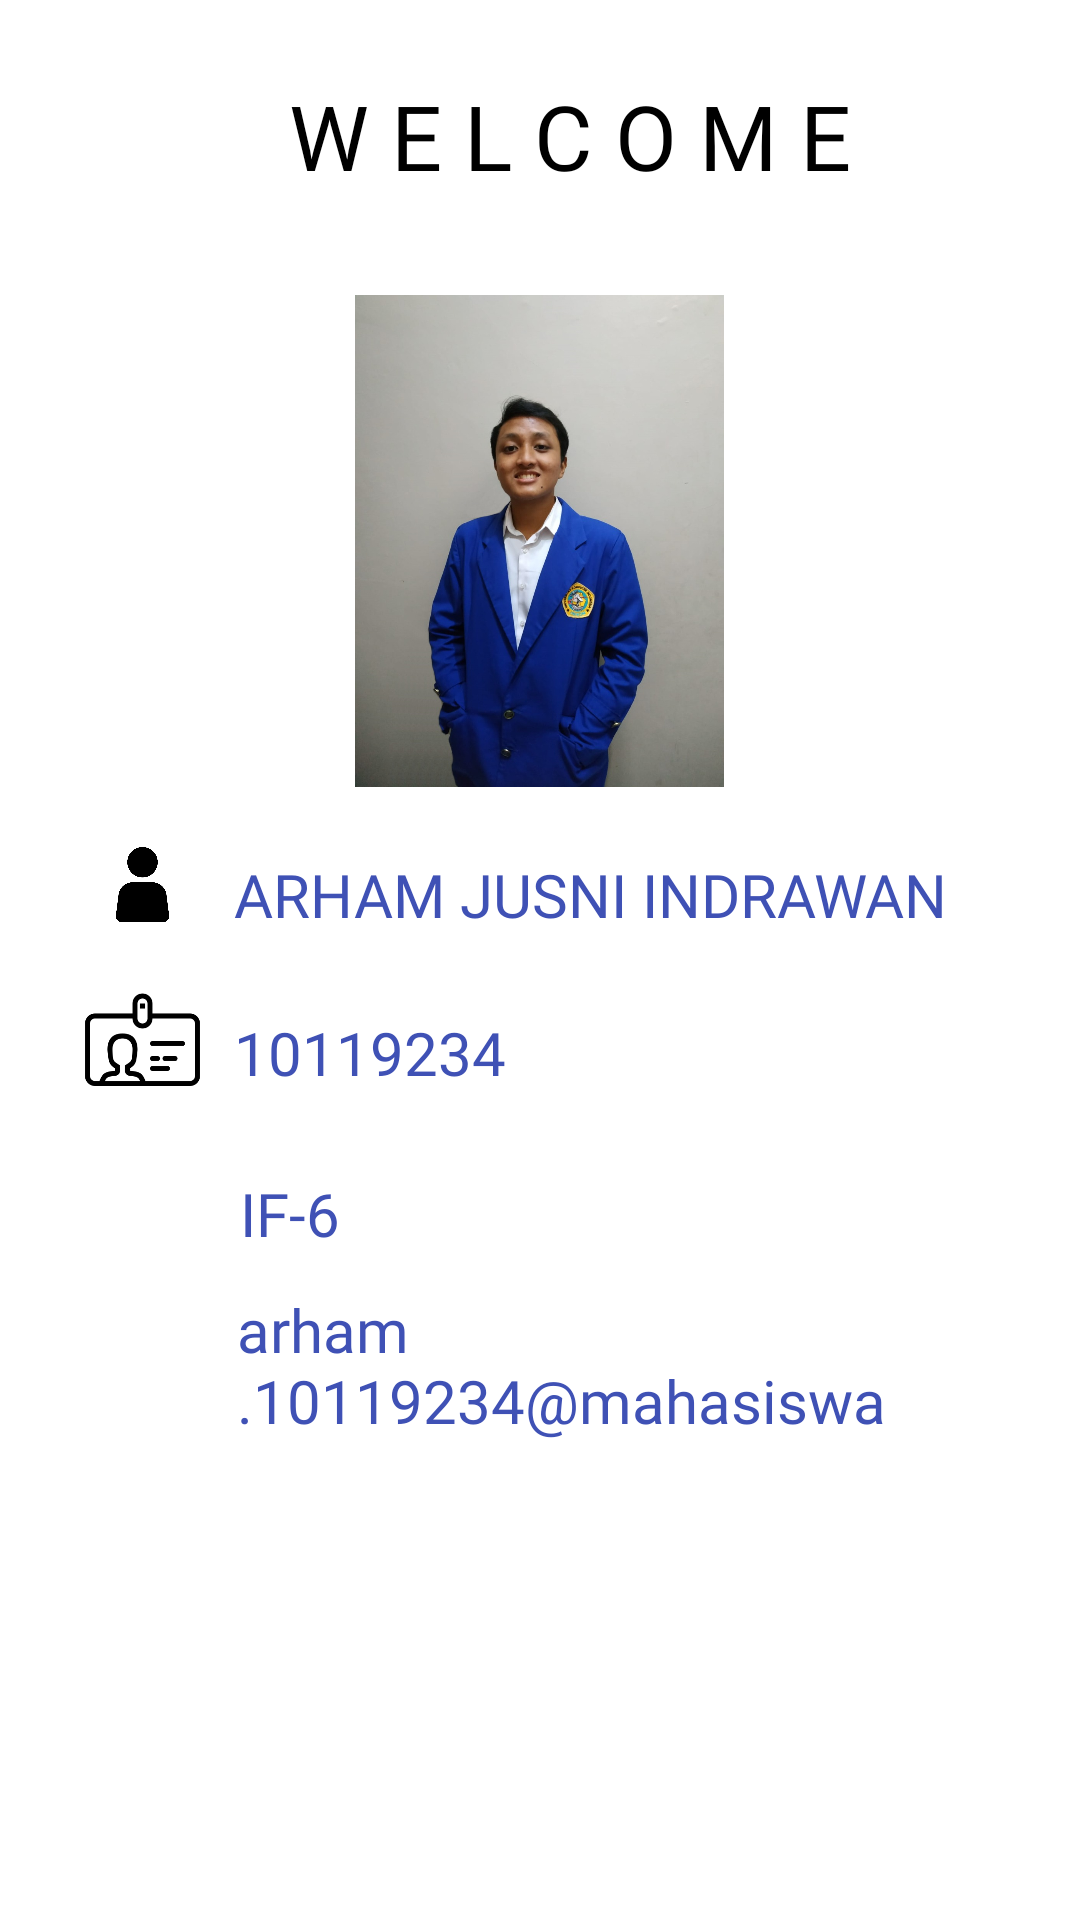

Point at icon controls on the screen. Image size 1080×1920, points as (x,y).
nim: (142,1039)
profile: (142,884)
